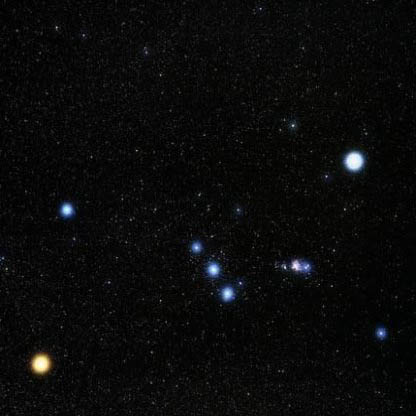Orion: (336, 133, 369, 179), (370, 299, 395, 347), (24, 341, 52, 382), (54, 192, 82, 228), (215, 283, 244, 311), (195, 258, 224, 282), (181, 233, 205, 256)
